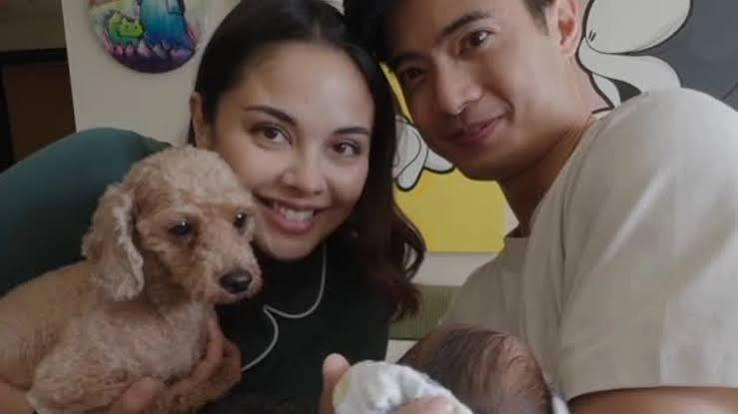adult_dog: (0, 143, 265, 414)
